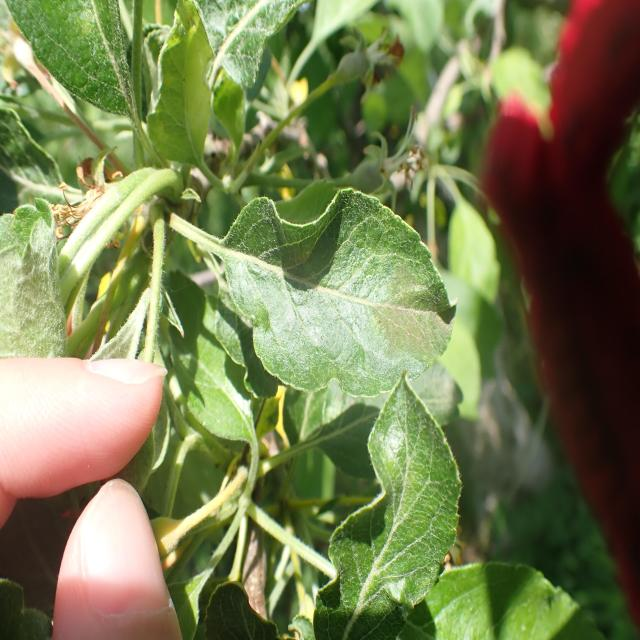scab: (208, 229, 450, 387)
